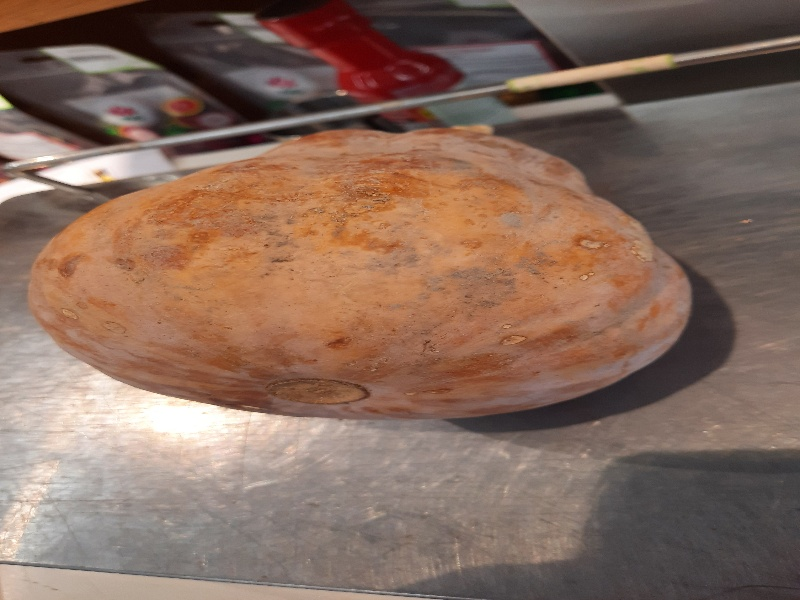vege: (22, 115, 690, 426)
